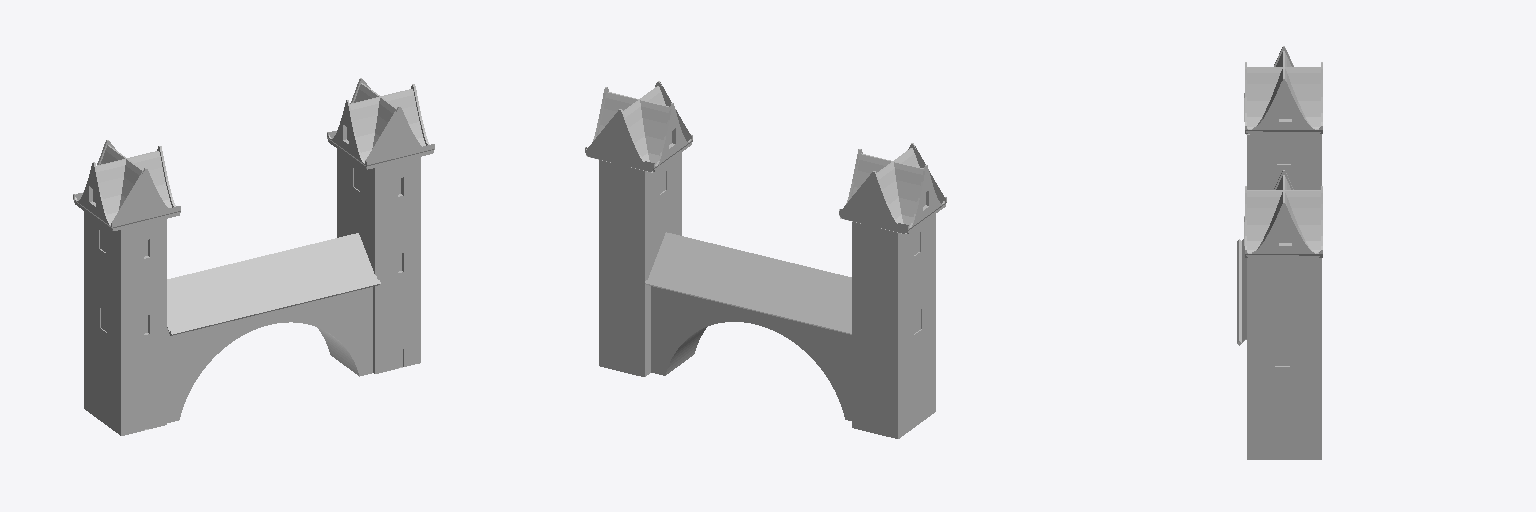
The model's file is stadttor.obj.
The picture shows the model from 3 angles: view 1: azimuth 30°, elevation 25°; view 2: azimuth 150°, elevation 25°; view 3: azimuth 270°, elevation 25°; orthographic projection.
Visible parts, largest first — view 1: Box002, Box003, Object, Box004, Arc006, Arc004, Arc003, Arc005; view 2: Box002, Box003, Object, Box004, Arc003, Arc005, Arc006, Arc004; view 3: Box003, Box002, Arc005, Arc003, Arc006, Arc004, Object.
Part boxes in pixels (left/top/right/bottom): Box002: left=84, top=211, right=166, bottom=435; Box003: left=337, top=149, right=420, bottom=373; Object: left=167, top=233, right=380, bottom=335; Box004: left=167, top=287, right=372, bottom=422; Arc006: left=328, top=84, right=434, bottom=168; Arc004: left=74, top=146, right=180, bottom=230; Arc003: left=73, top=140, right=180, bottom=230; Arc005: left=327, top=78, right=434, bottom=169; Box002: left=852, top=214, right=935, bottom=438; Box003: left=599, top=152, right=681, bottom=376; Object: left=645, top=232, right=851, bottom=334; Box004: left=651, top=286, right=851, bottom=420; Arc003: left=839, top=143, right=946, bottom=233; Arc005: left=585, top=81, right=692, bottom=172; Arc006: left=586, top=87, right=692, bottom=171; Arc004: left=840, top=149, right=946, bottom=233; Box003: left=1247, top=258, right=1321, bottom=459; Box002: left=1247, top=134, right=1321, bottom=189; Arc005: left=1245, top=186, right=1322, bottom=257; Arc003: left=1245, top=62, right=1322, bottom=133; Arc006: left=1244, top=170, right=1320, bottom=257; Arc004: left=1244, top=46, right=1320, bottom=134; Object: left=1237, top=239, right=1246, bottom=345.
Bounding box in the file's own units: 1584 × 1230 × 368.